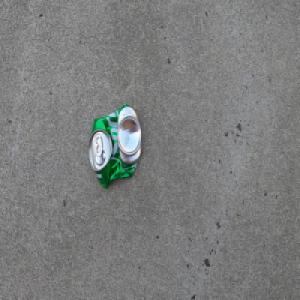SodaCan: (88, 103, 142, 190)
